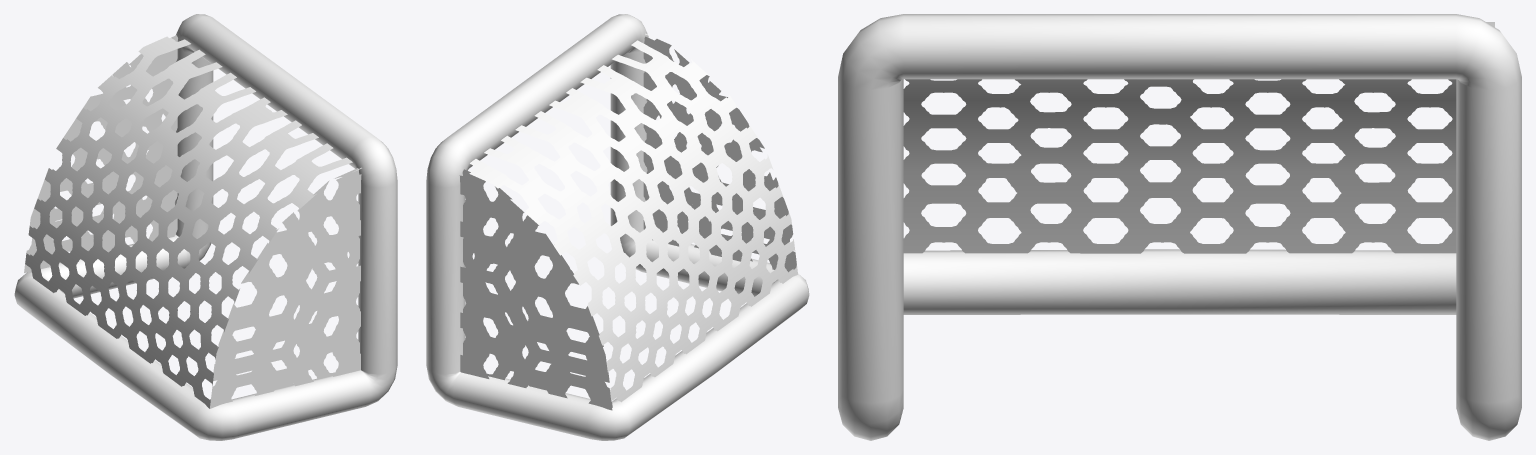
The model's file is Goal.fbx.
The picture shows the model from 3 angles, left to right: view 1: azimuth 30°, elevation 25°; view 2: azimuth 150°, elevation 25°; view 3: azimuth 270°, elevation 25°; orthographic projection. The views are drawn at different scales.
Parts seen in each view (by area): view 1: Goal; view 2: Goal; view 3: Goal.
Boxes of the visible parts, bbox=[...] form: Goal: bbox=[14, 14, 397, 440]; Goal: bbox=[426, 14, 809, 440]; Goal: bbox=[838, 14, 1521, 440].
Size of the model in its own units: 220 by 269 by 386.
